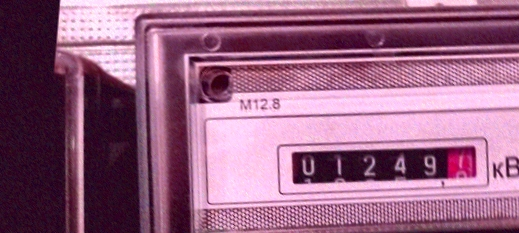0: (296, 149, 317, 177)
1: (328, 151, 345, 177)
2: (358, 152, 380, 179)
4: (390, 148, 410, 177)
7: (451, 145, 468, 171)
9: (419, 151, 439, 177)
screen: (266, 122, 504, 217)
